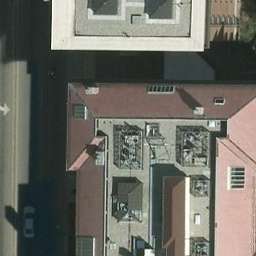car: (23, 204, 36, 239)
